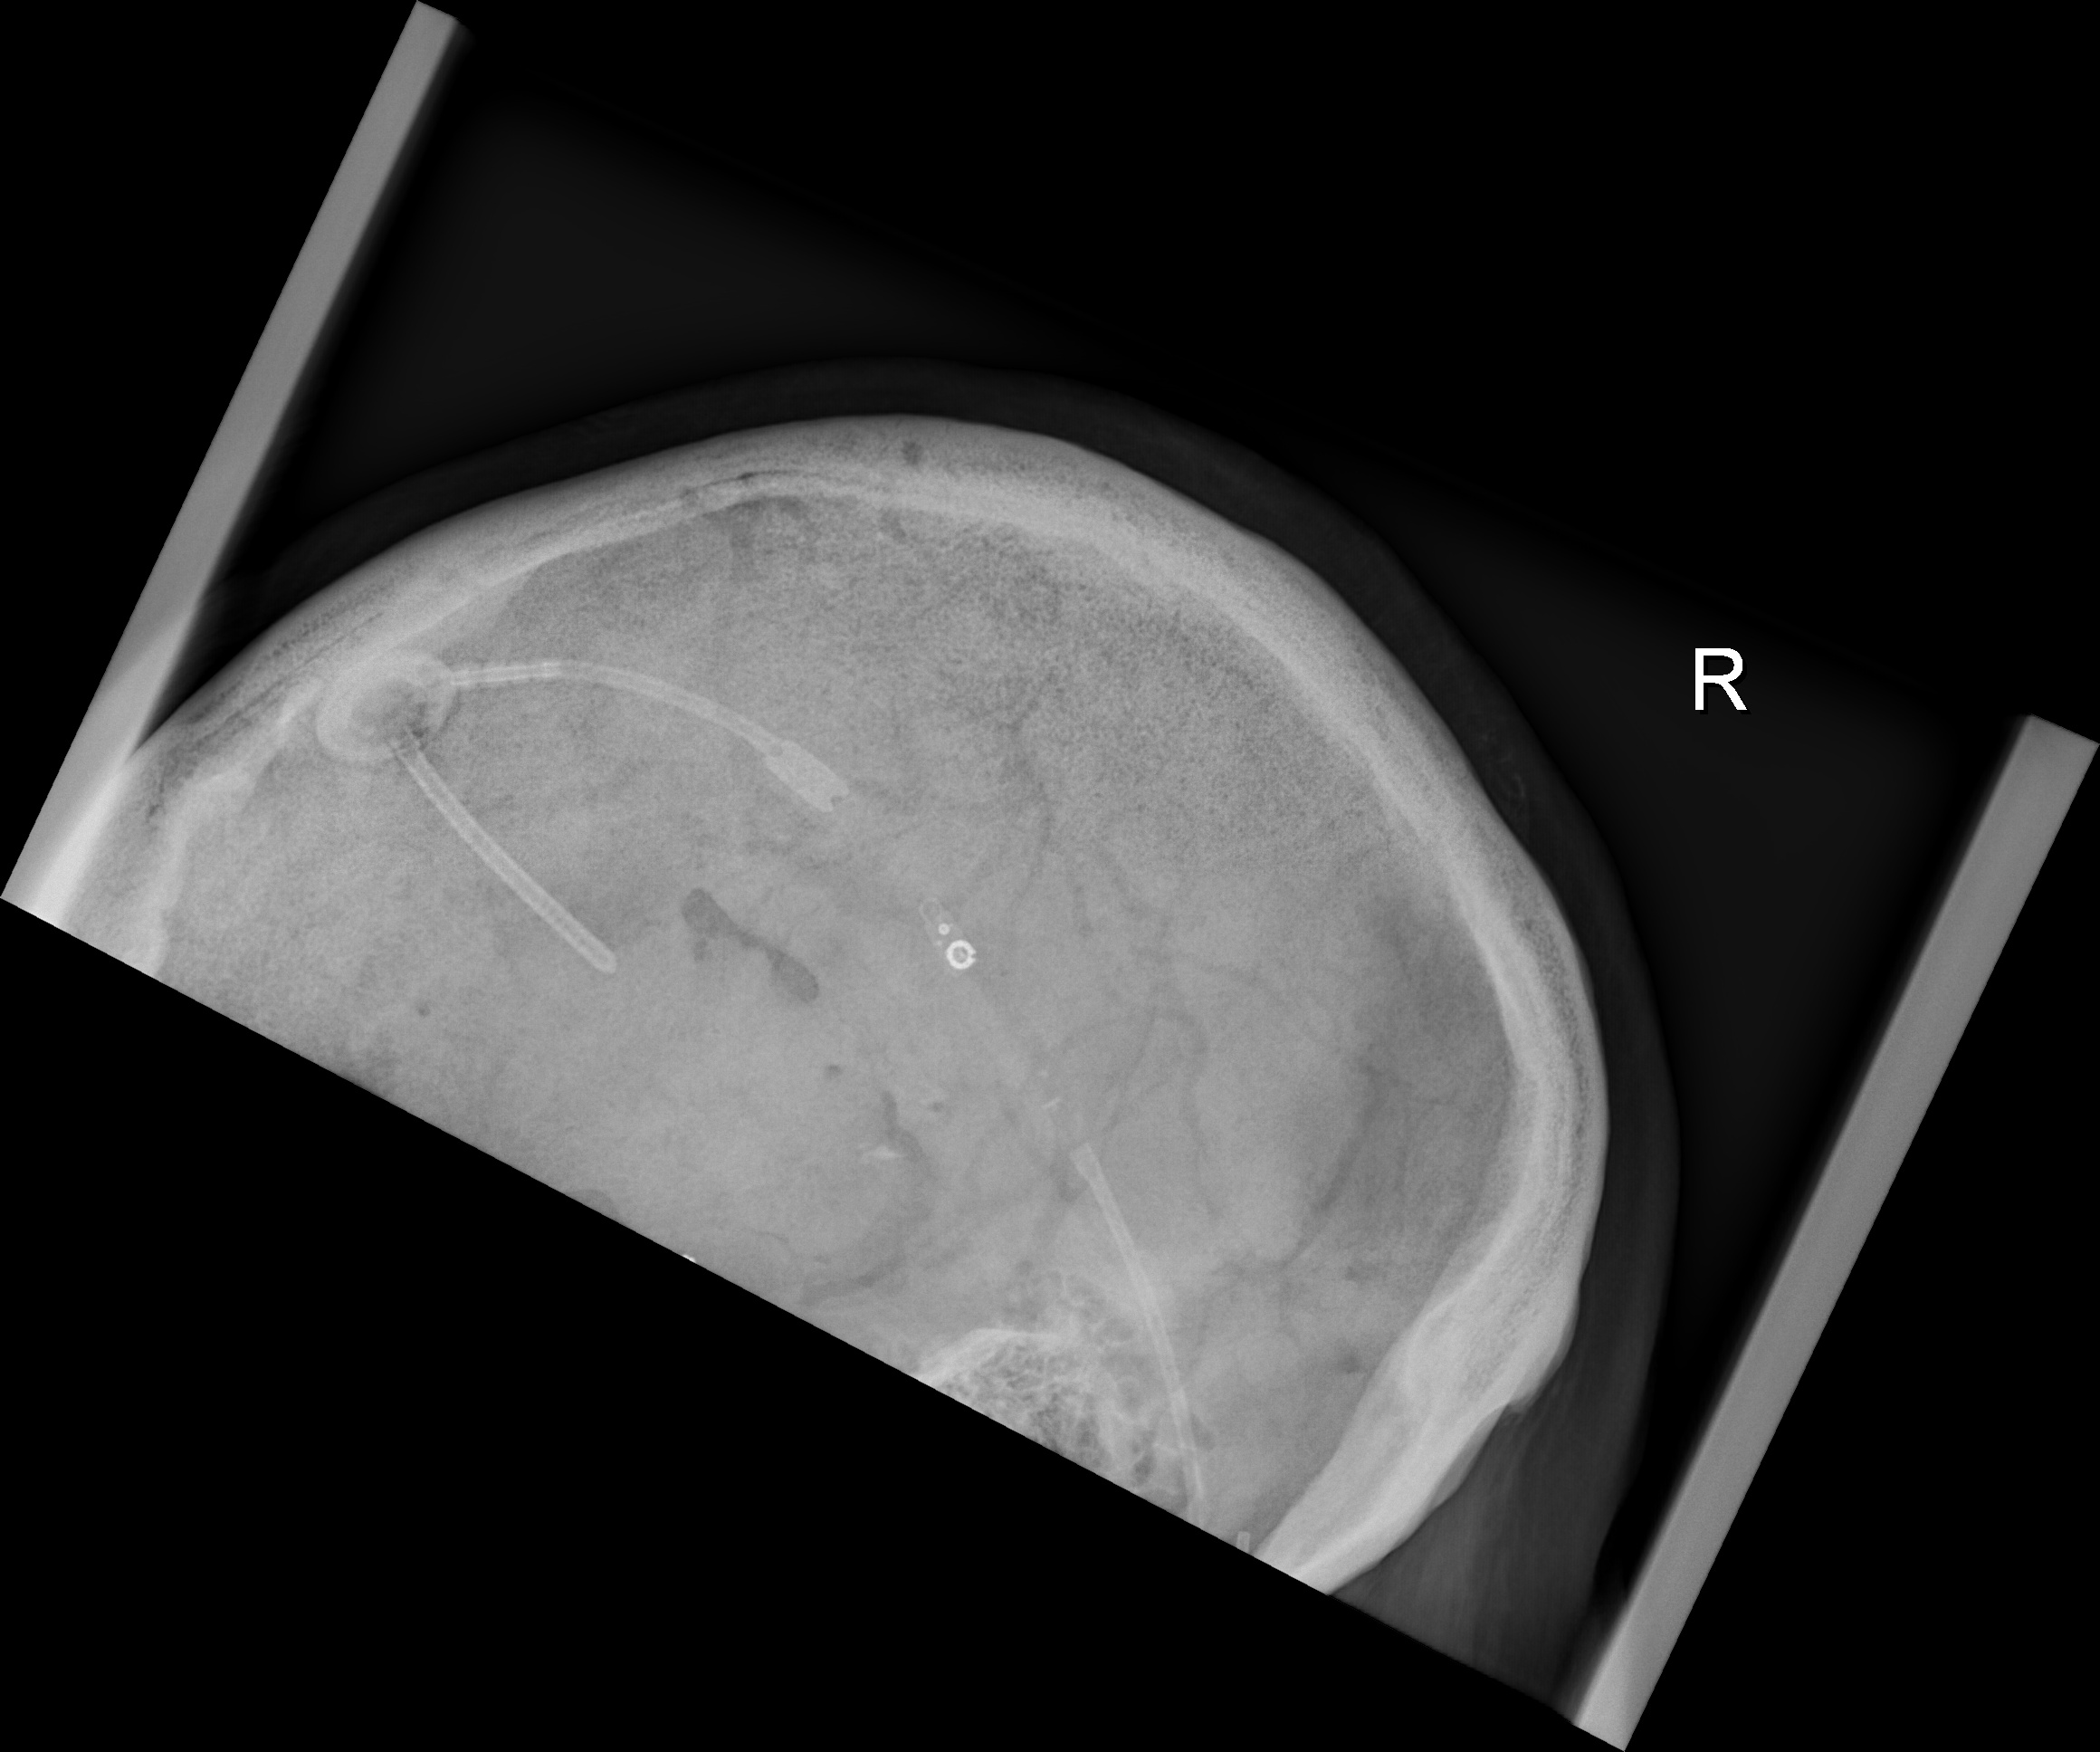Codman Hakim: (914, 907, 989, 989)
